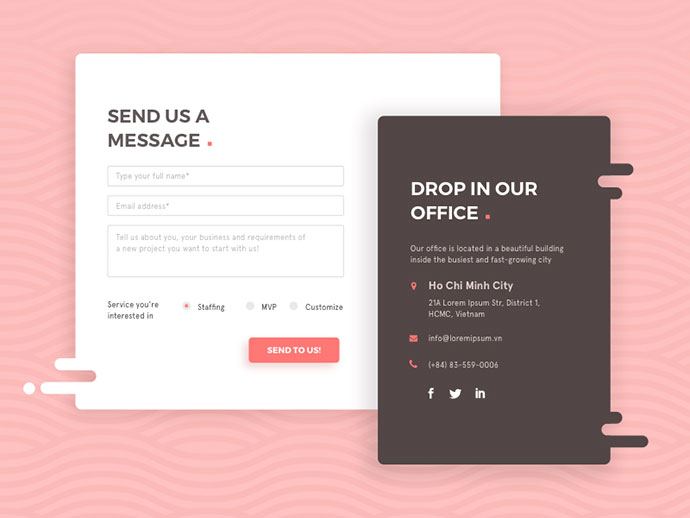_form_: (1, 1, 416, 416)
button: (248, 337, 341, 363)
field: (106, 224, 345, 278), (106, 194, 346, 216), (106, 165, 344, 187)
radio: (180, 299, 193, 312), (244, 299, 257, 312), (288, 299, 298, 311)
radio_with_label: (287, 297, 344, 314), (178, 297, 225, 313), (242, 297, 278, 314)
